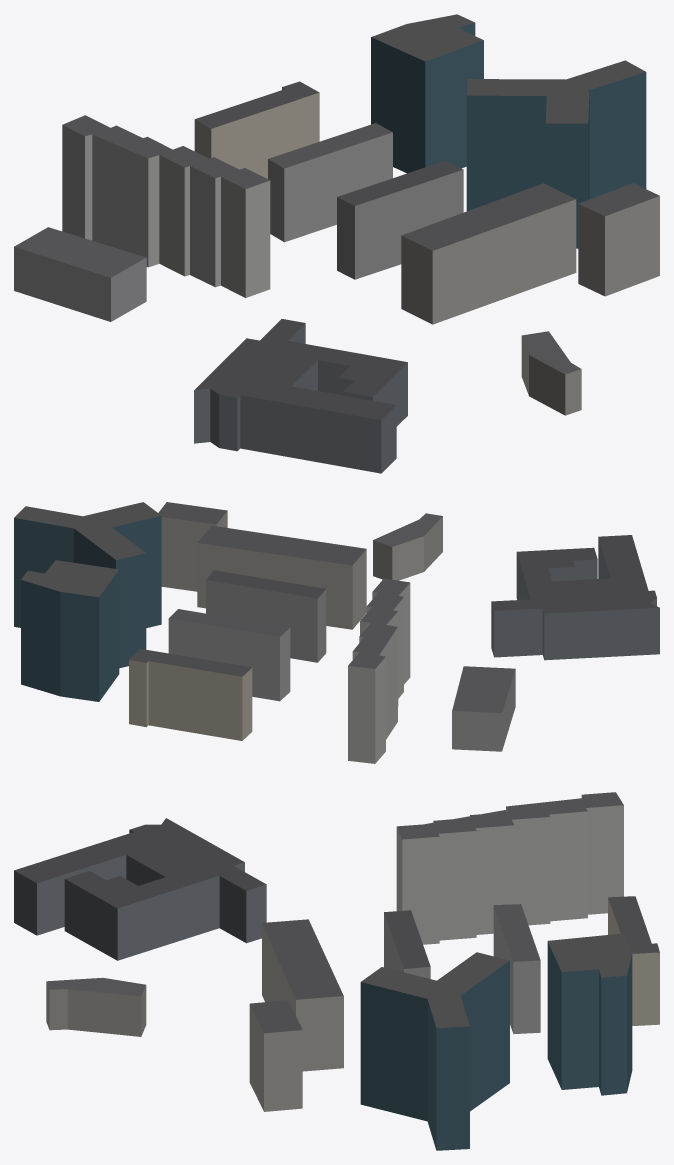
File: 3_-5.far.glb
3 views of the same model, one above another, from view 1: azimuth 30°, elevation 25°; view 2: azimuth 150°, elevation 25°; view 3: azimuth 270°, elevation 25° (orthographic). The views are drawn at different scales.
Visible parts, largest first — view 1: 3_-5_far; view 2: 3_-5_far; view 3: 3_-5_far.
Part boxes in pixels (box(x1,y1,x2,y2)): 3_-5_far: box(14, 14, 659, 473); 3_-5_far: box(14, 502, 659, 763); 3_-5_far: box(14, 792, 659, 1150).
Size of the model in its own units: 289 by 64.99 by 279.
